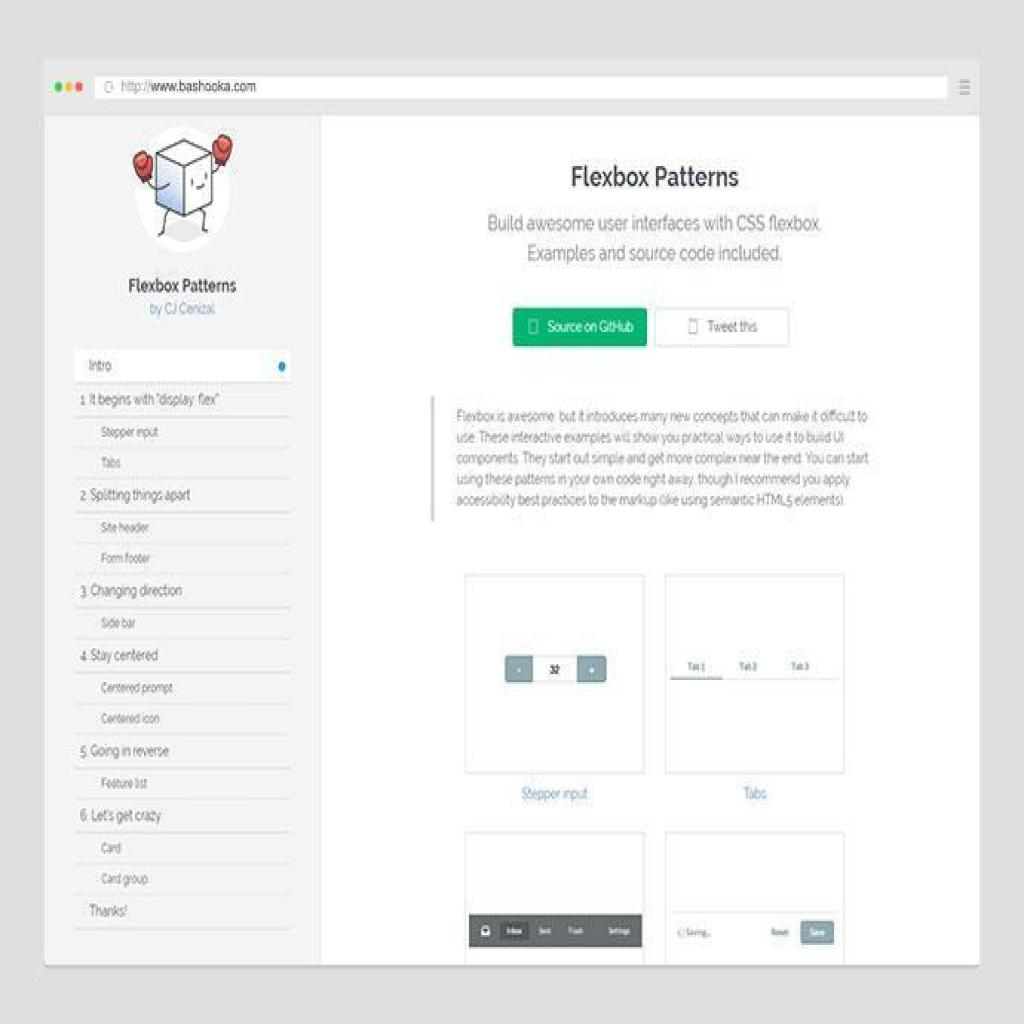button: (655, 304, 788, 348), (514, 306, 647, 346)
